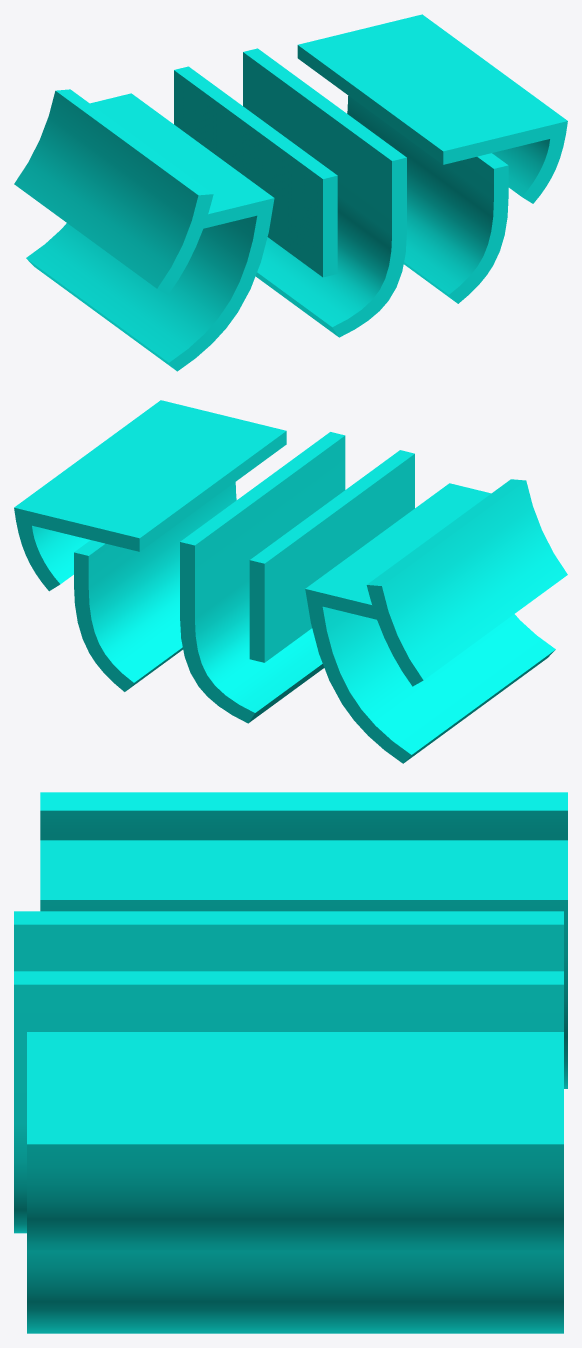
The model's file is clear.fbx.
The picture shows the model from 3 angles, top to bottom: view 1: azimuth 30°, elevation 25°; view 2: azimuth 150°, elevation 25°; view 3: azimuth 270°, elevation 25°; orthographic projection. The views are drawn at different scales.
Parts seen in each view (by area): view 1: typeMesh1; view 2: typeMesh1; view 3: typeMesh1.
Boxes of the visible parts, x1,y1,x2,y2 form: typeMesh1: (14, 14, 567, 371); typeMesh1: (14, 400, 567, 763); typeMesh1: (14, 792, 567, 1333).
Bounding box in the file's own units: 1.38 × 0.5539 × 0.8817.
